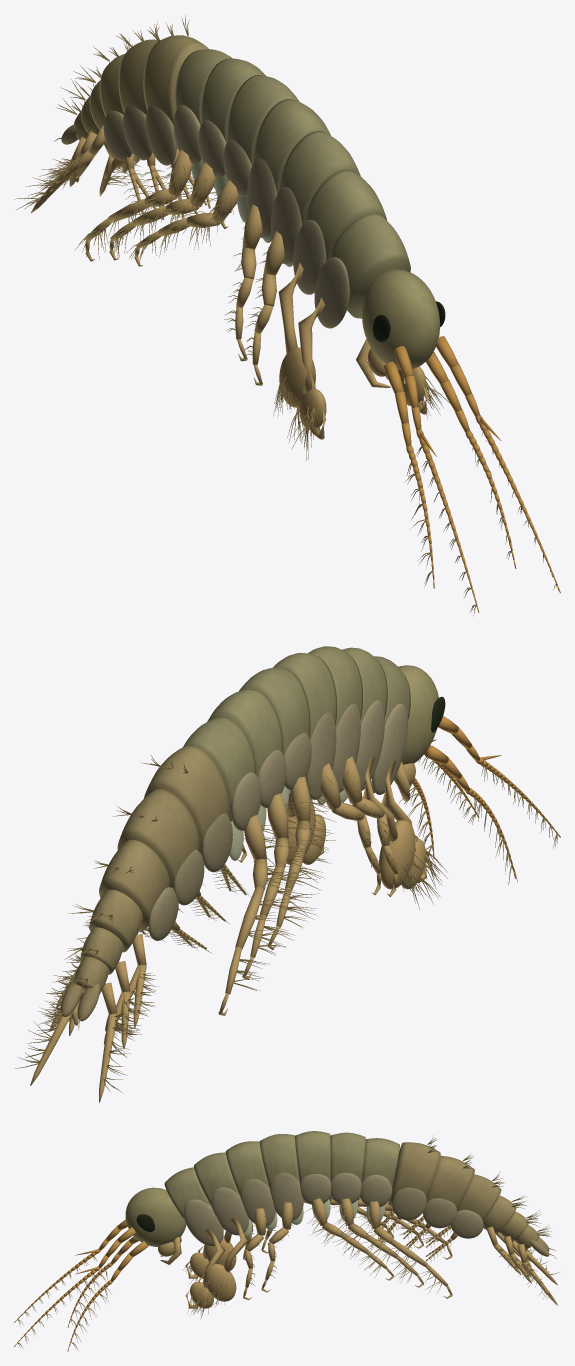
The model's file is Echinogammarus_web.glb.
3 views of the same model, one above another, from view 1: azimuth 30°, elevation 25°; view 2: azimuth 150°, elevation 25°; view 3: azimuth 270°, elevation 25° (orthographic). The views are drawn at different scales.
Parts seen in each view (by area): view 1: cap, pereon_01, pereon_02, pereon_03, pereon_04, pereon_05, pleon_01, pereon_06, gnatopode_2_E, pereon_07, gnatopode_1_E, coxa_1_E (+23 smaller); view 2: pleon_01, pleon_02, pleon_03, pereon_06, pereon_07, pereon_05, cap, pereon_04, pereiopode_7_E, gnatopode_2_E, pereiopode_6_E, urosoma_01 (+31 smaller); view 3: cap, pleon_01, pleon_02, pereon_05, pereon_06, pereon_04, pereon_03, pereon_07, gnatopode_2_D, pereon_02, coxa_1_D, coxa_2_D (+31 smaller).
Boxes of the visible parts, x1,y1,x2,y2 form: cap: (362, 269, 440, 369); pereon_01: (328, 213, 410, 318); pereon_02: (303, 169, 387, 261); pereon_03: (278, 131, 360, 225); pereon_04: (252, 99, 330, 193); pereon_05: (226, 75, 299, 165); pleon_01: (143, 35, 208, 149); pereon_06: (200, 58, 265, 143); gnatopode_2_E: (278, 262, 315, 407); pereon_07: (175, 49, 232, 125); gnatopode_1_E: (298, 297, 326, 439); coxa_1_E: (314, 257, 349, 328); pleon_01: (143, 745, 229, 854); pleon_02: (117, 789, 199, 887); pleon_03: (99, 839, 169, 930); pereon_06: (207, 689, 283, 776); pereon_07: (183, 716, 255, 821); pereon_05: (239, 667, 310, 755); cap: (398, 665, 438, 764); pereon_04: (273, 653, 336, 739); pereiopode_7_E: (218, 814, 267, 1015); gnatopode_2_E: (363, 757, 418, 889); pereiopode_6_E: (242, 793, 289, 979); urosoma_01: (89, 889, 142, 952); cap: (125, 1187, 186, 1246); pleon_01: (388, 1142, 440, 1206); pleon_02: (426, 1155, 474, 1208); pereon_05: (295, 1131, 330, 1203); pereon_06: (330, 1132, 365, 1200); pereon_04: (259, 1134, 299, 1188); pereon_03: (226, 1141, 269, 1195); pereon_07: (359, 1138, 399, 1198); gnatopode_2_D: (198, 1217, 248, 1301); pereon_02: (194, 1152, 239, 1206); coxa_1_D: (184, 1199, 223, 1246); coxa_2_D: (211, 1187, 248, 1235).
Bounding box in the file's own units: 2.72 × 4.74 × 11.26.
